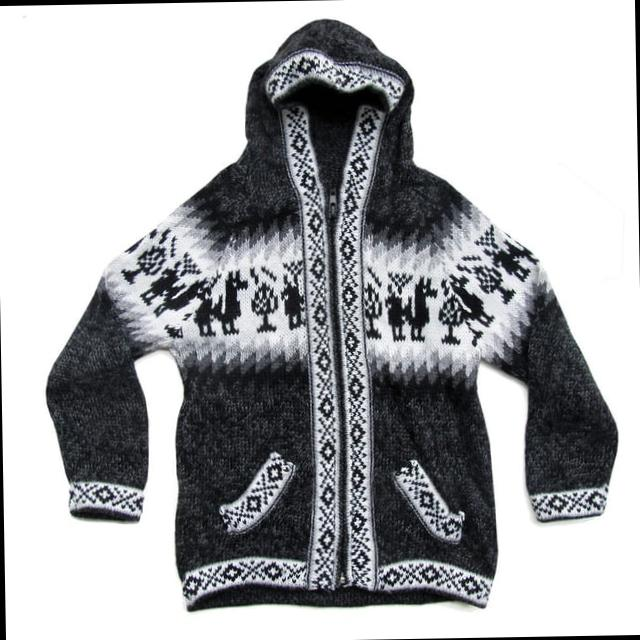Chompa: (38, 12, 621, 616)
